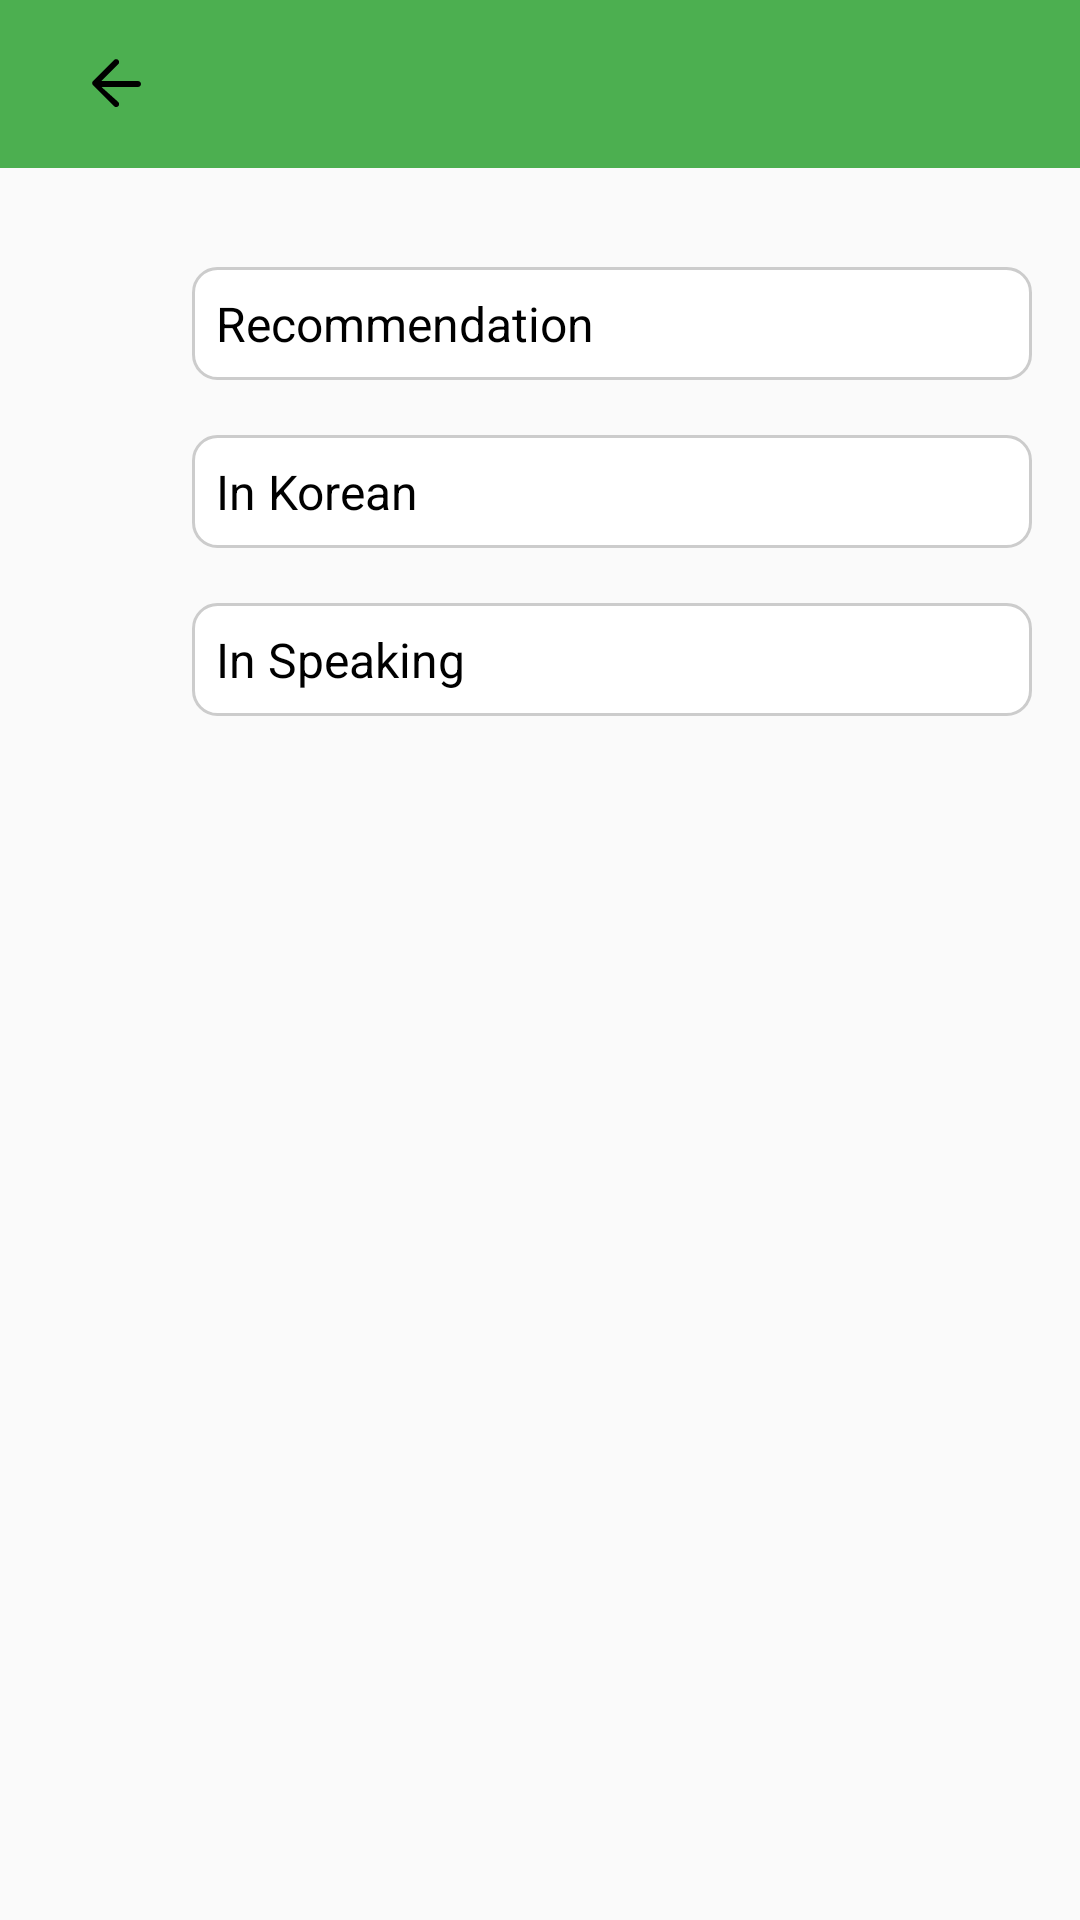

Named icons in this screenshot (1080*1920) and their bounding boxes, (x1, y1, x2, y2):
Back: (92, 59, 141, 107)
